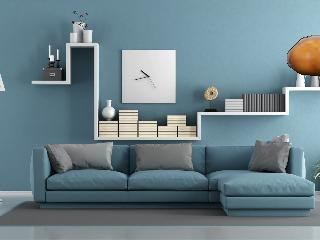potato: (285, 35, 320, 76)
